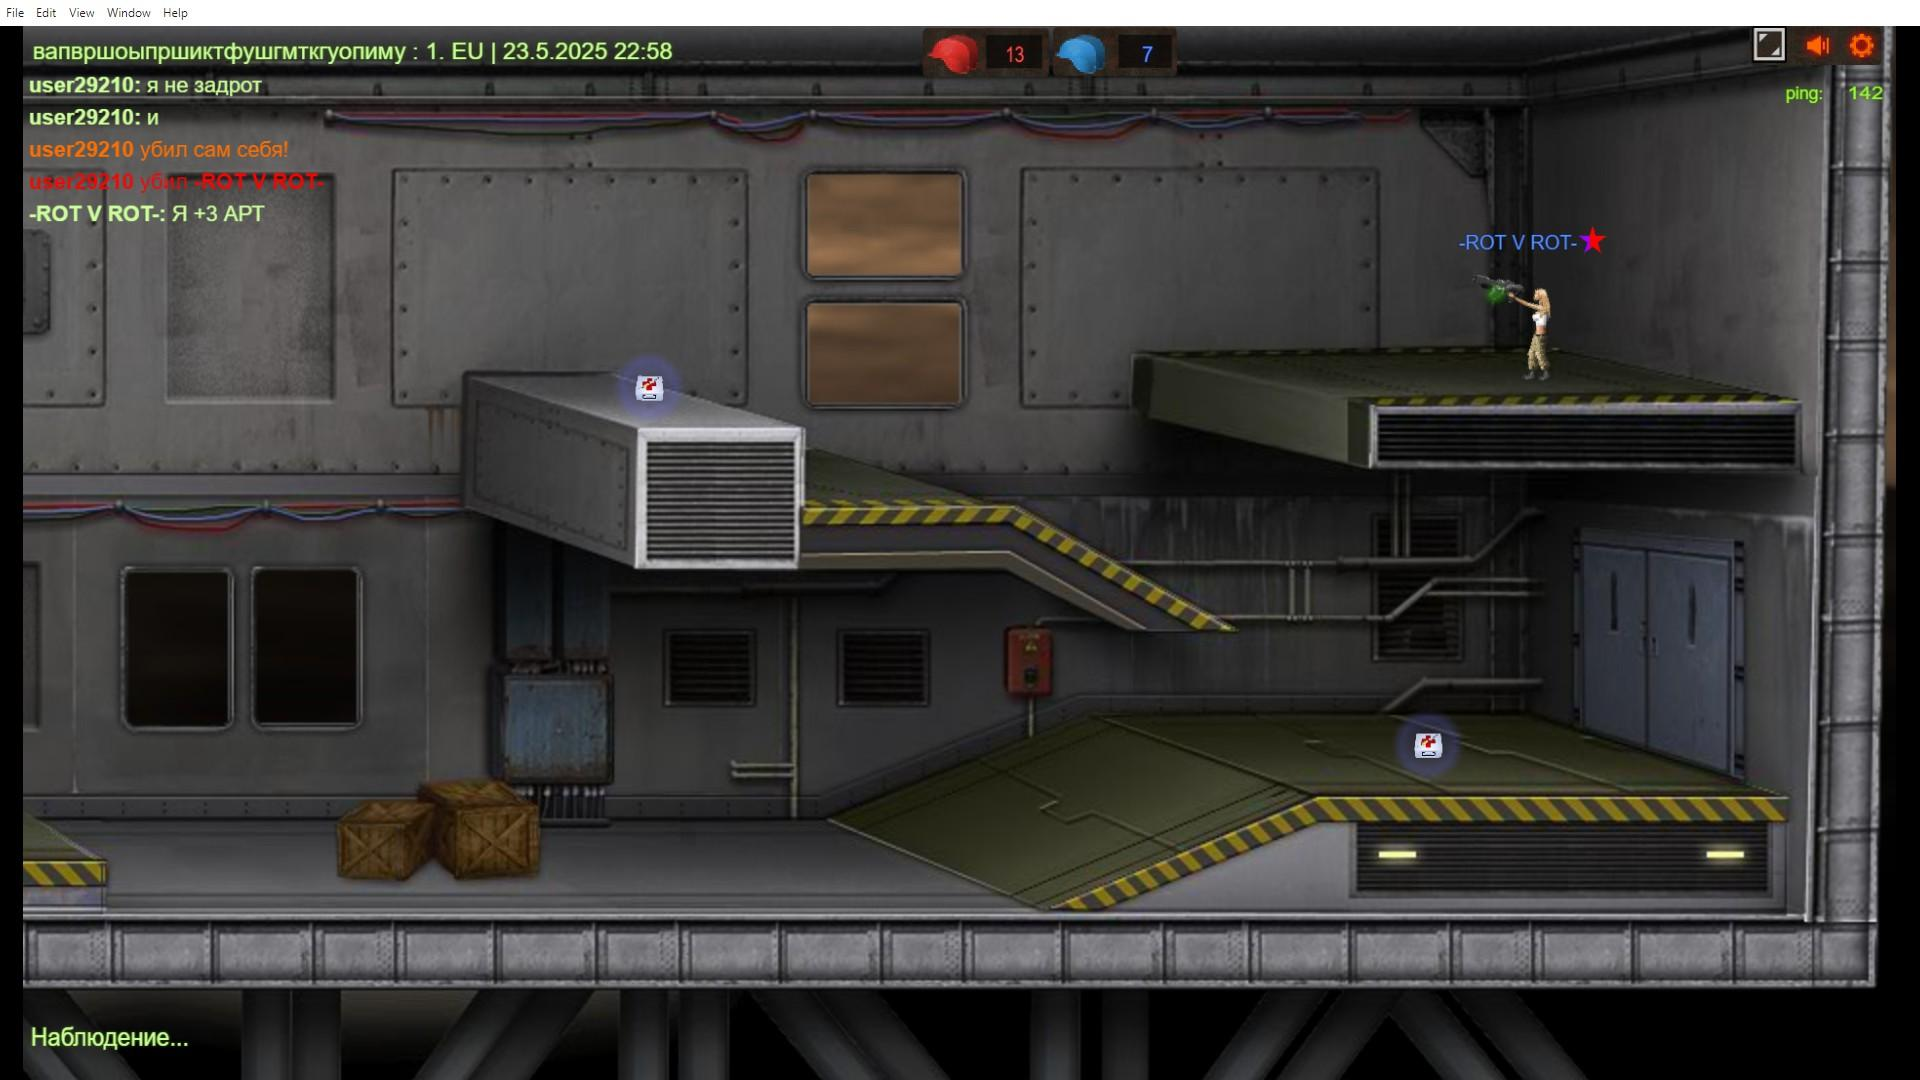enemy: (1510, 285, 1565, 386)
